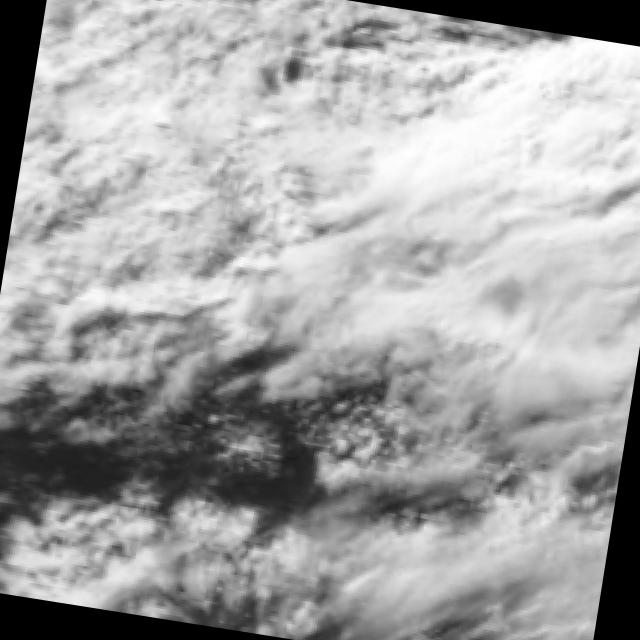CB: (322, 30, 640, 399)
